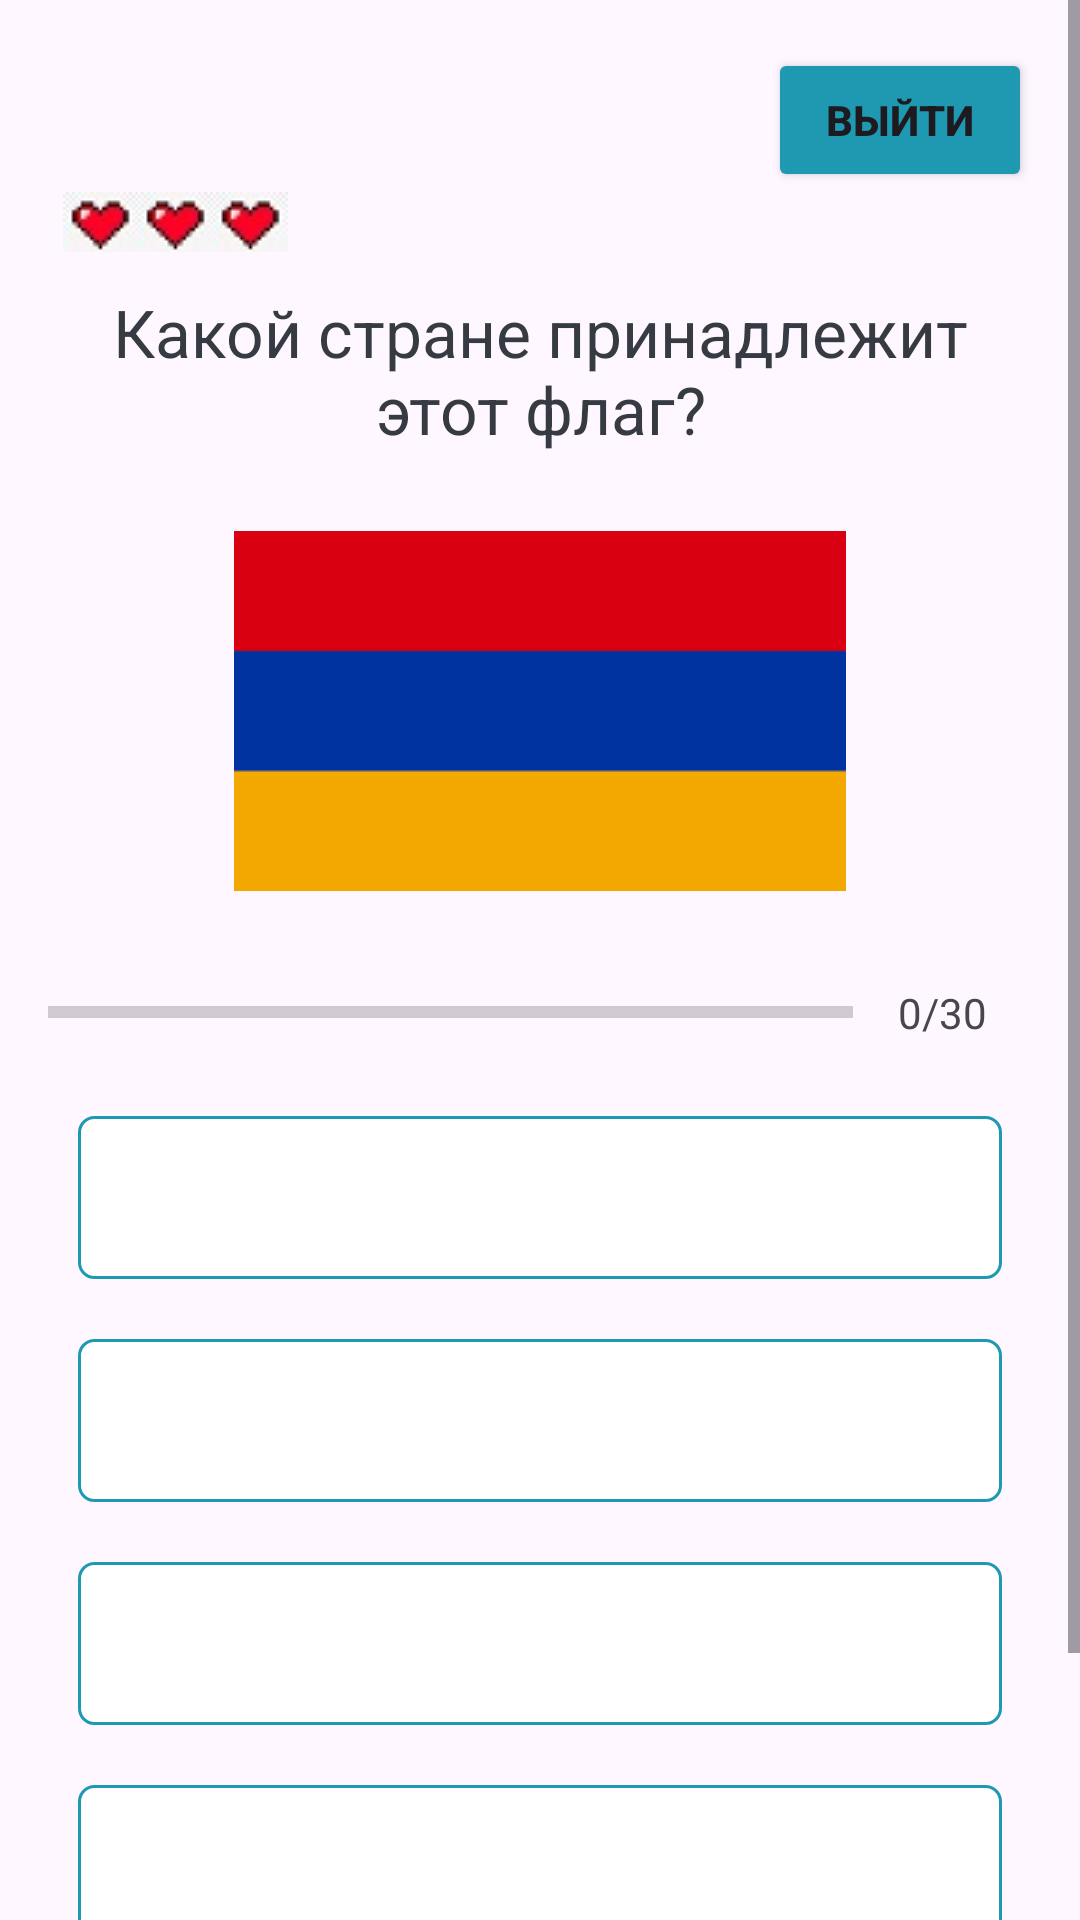

Icon bounding boxes for this 1080×1920 phone screenshot, format region(x1, y1, x2, y2):
heart: region(63, 192, 138, 252), region(213, 192, 288, 252), region(146, 200, 205, 250)
